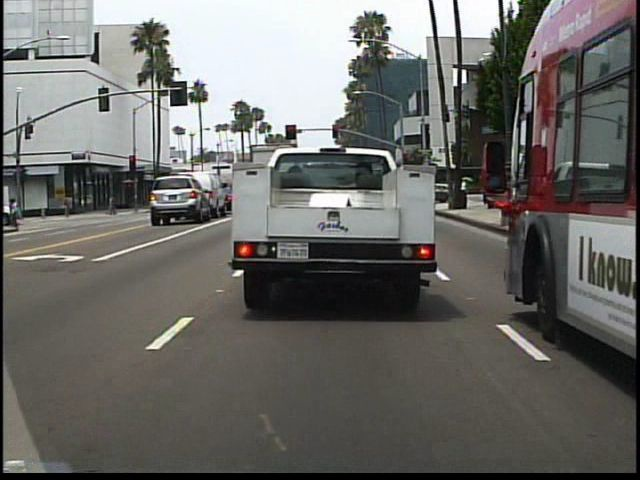person: (63, 191, 76, 218)
